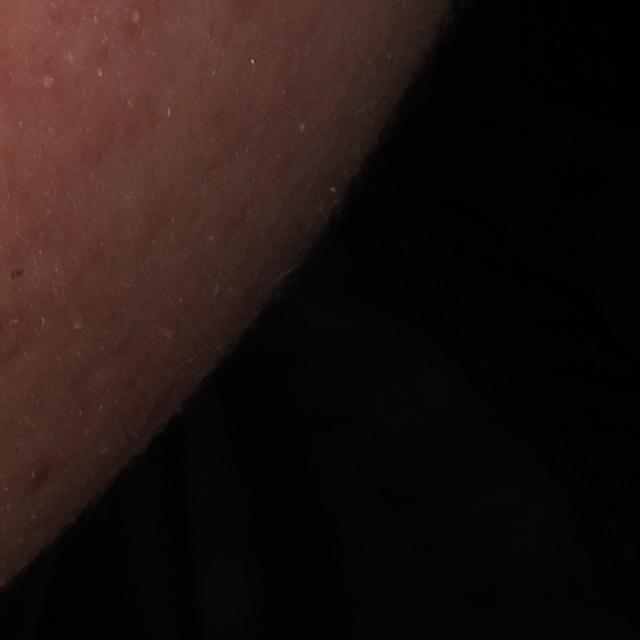pustule: (34, 70, 63, 96)
